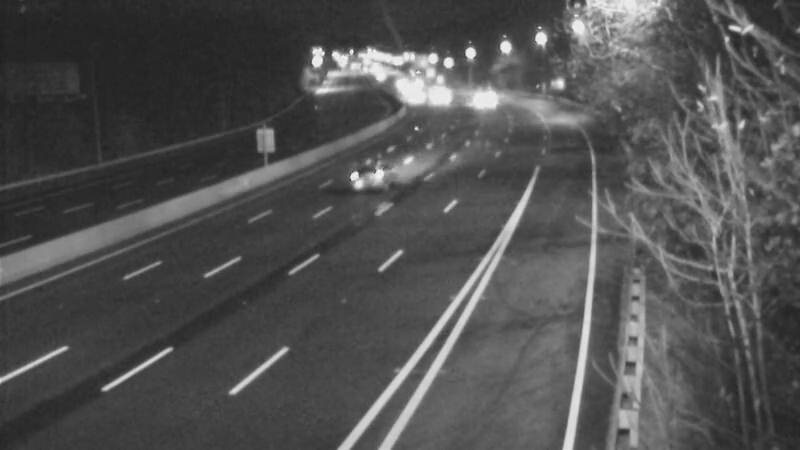vehicle: (334, 134, 414, 214), (459, 77, 509, 127), (410, 75, 460, 125)
